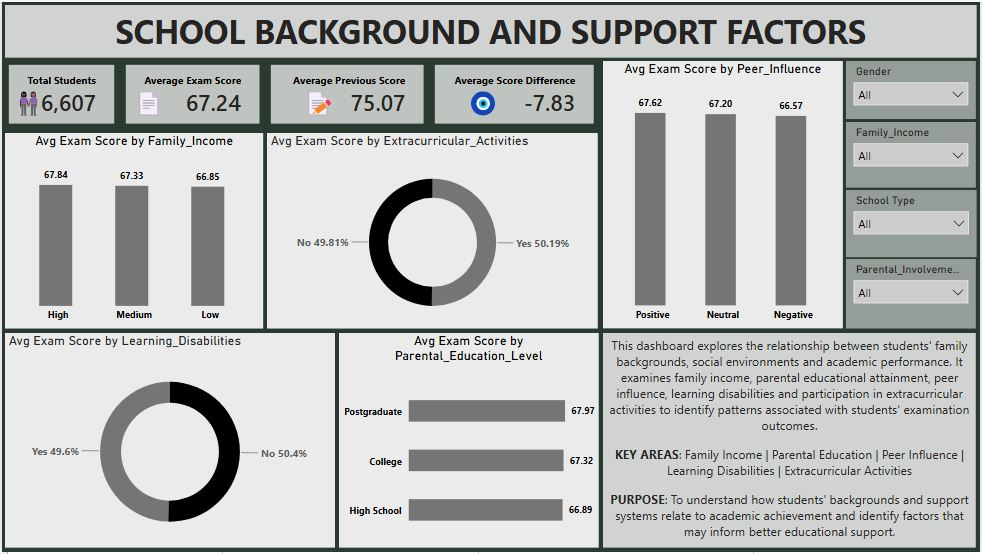

What the dashboard file says about the page in this screenshot:
{"tool":"powerbi","page":{"name":"Student Background and Support Factors","canvas":[1280,720],"ordinal":3},"visuals":[{"type":"textbox","box":[4.3,4.3,1271.5,69.1],"z":0},{"type":"clusteredColumnChart","title":"Avg Exam Score by Family_Income","fields":{"Y":["Avg(Student Performance Factors.Exam Score)"],"Category":["Student Performance Factors.Family_Income"]},"box":[4.3,171.4,338.4,256.3],"z":1000},{"type":"clusteredBarChart","title":"Avg Exam Score by Parental_Education_Level","fields":{"Category":["Student Performance Factors.Parental_Education_Level"],"Y":["Avg(Student Performance Factors.Exam Score)"]},"box":[440.6,433.4,339.8,280.8],"z":2000},{"type":"clusteredColumnChart","title":"Avg Exam Score by Peer_Influence","fields":{"Y":["Avg(Student Performance Factors.Exam Score)"],"Category":["Student Performance Factors.Peer_Influence"]},"box":[786.2,77.8,313.9,349.9],"z":3000},{"type":"donutChart","title":"Avg Exam Score by Extracurricular_Activities","fields":{"Category":["Student Performance Factors.Extracurricular_Activities"],"Y":["Avg(Student Performance Factors.Exam Score)"]},"box":[347,171.4,433.4,256.3],"z":4000},{"type":"donutChart","title":"Avg Exam Score by Learning_Disabilities","fields":{"Category":["Student Performance Factors.Learning_Disabilities"],"Y":["Avg(Student Performance Factors.Exam Score)"]},"box":[4.3,433.4,432,280.8],"z":5000},{"type":"cardVisual","fields":{"Data":["Student's Performance Measure.Total Students"]},"box":[4.3,77.8,148.3,87.8],"z":6000},{"type":"cardVisual","fields":{"Data":["Student's Performance Measure.Average Exam Score"]},"box":[157,77.8,185.8,87.8],"z":7000},{"type":"cardVisual","fields":{"Data":["Student's Performance Measure.Average Previous Score"]},"box":[347,77.8,210.2,87.8],"z":8000},{"type":"cardVisual","fields":{"Data":["Student's Performance Measure.Average Score Difference"]},"box":[561.6,77.8,218.9,87.8],"z":9000},{"type":"slicer","fields":{"Values":["Student Performance Factors.Gender"]},"box":[1104.5,77.8,169.9,76.3],"z":10000},{"type":"slicer","fields":{"Values":["Student Performance Factors.School_Type"]},"box":[1104.5,246.2,171.4,87.8],"z":11000},{"type":"slicer","fields":{"Values":["Student Performance Factors.Family_Income"]},"box":[1104.5,157,169.9,86.4],"z":12000},{"type":"slicer","fields":{"Values":["Student Performance Factors.Parental_Involvement"]},"box":[1104.5,337,169.9,90.7],"z":13000},{"type":"textbox","box":[786.2,433.4,488.2,280.8],"z":14000},{"type":"textbox","box":[599,103.7,60.5,57.6],"z":15000},{"type":"textbox","box":[385.9,103.7,54.7,57.6],"z":16000},{"type":"textbox","box":[7.2,103.7,54.7,57.6],"z":17000},{"type":"textbox","box":[165.6,103.7,54.7,57.6],"z":18000}]}

Visuals, with their boxes in screenshot pixels (x1, y1, x2, y2), scaled from the page's 1280x720 canvas onto the 982x554 screenshot:
textbox: [3,3,979,56]
"Avg Exam Score by Family_Income" clusteredColumnChart: [3,132,263,329]
"Avg Exam Score by Parental_Education_Level" clusteredBarChart: [338,333,599,550]
"Avg Exam Score by Peer_Influence" clusteredColumnChart: [603,60,844,329]
"Avg Exam Score by Extracurricular_Activities" donutChart: [266,132,599,329]
"Avg Exam Score by Learning_Disabilities" donutChart: [3,333,335,550]
cardVisual - Student's Performance Measure.Total Students: [3,60,117,127]
cardVisual - Student's Performance Measure.Average Exam Score: [120,60,263,127]
cardVisual - Student's Performance Measure.Average Previous Score: [266,60,427,127]
cardVisual - Student's Performance Measure.Average Score Difference: [431,60,599,127]
slicer - Student Performance Factors.Gender: [847,60,978,119]
slicer - Student Performance Factors.School_Type: [847,189,979,257]
slicer - Student Performance Factors.Family_Income: [847,121,978,187]
slicer - Student Performance Factors.Parental_Involvement: [847,259,978,329]
textbox: [603,333,978,550]
textbox: [460,80,506,124]
textbox: [296,80,338,124]
textbox: [6,80,47,124]
textbox: [127,80,169,124]
